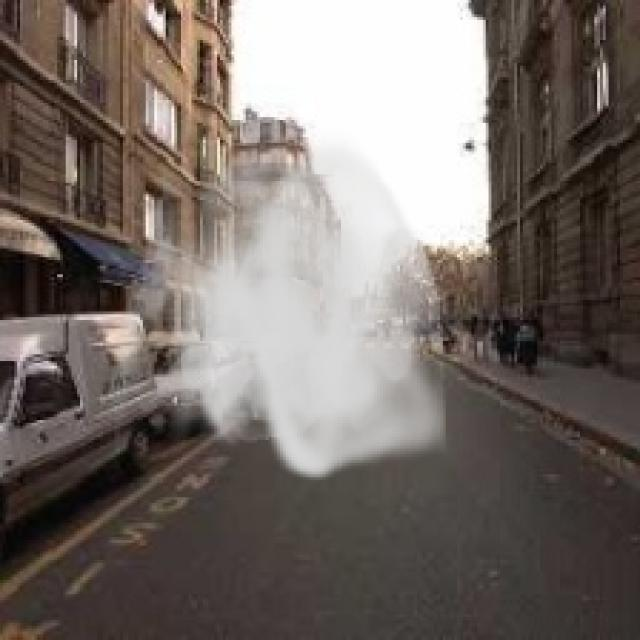smoke: (106, 128, 457, 483)
